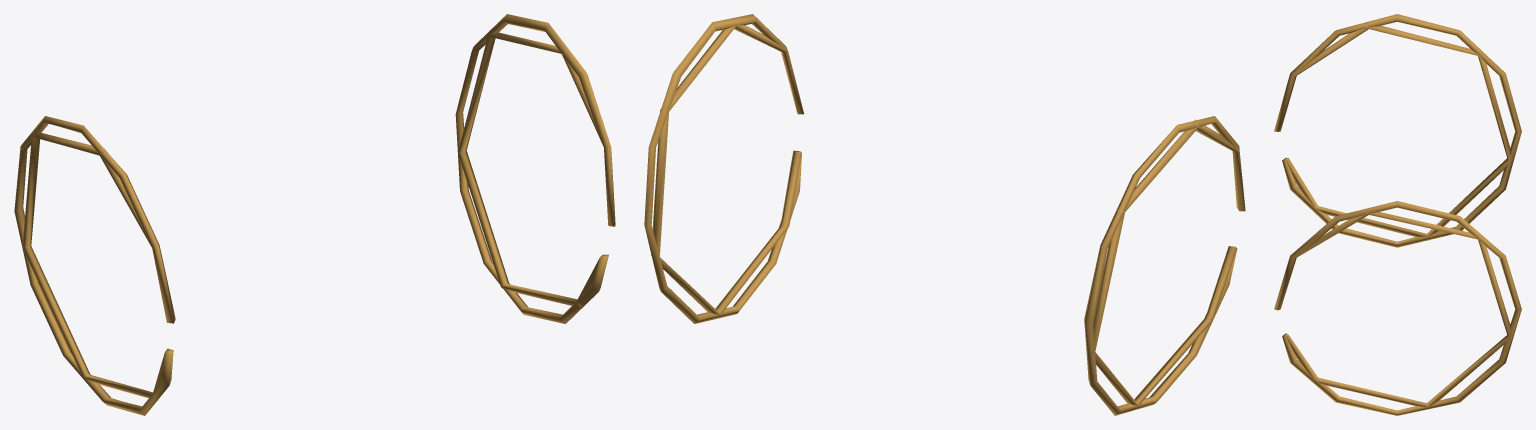
File: accs_002_u.obj
3 views of the same model, side by side, from view 1: azimuth 30°, elevation 25°; view 2: azimuth 150°, elevation 25°; view 3: azimuth 270°, elevation 25° (orthographic). The views are drawn at different scales.
Visible parts, largest first — view 1: accs_002_u_high_1, accs_002_u_med_1; view 2: accs_002_u_high_1, accs_002_u_med_1; view 3: accs_002_u_high_1, accs_002_u_med_1.
Boxes of the visible parts, x1=… form: accs_002_u_high_1: x1=14, y1=14, x2=615, y2=415; accs_002_u_med_1: x1=22, y1=30, x2=602, y2=397; accs_002_u_high_1: x1=644, y1=14, x2=1245, y2=415; accs_002_u_med_1: x1=651, y1=25, x2=1239, y2=405; accs_002_u_high_1: x1=1274, y1=14, x2=1521, y2=415; accs_002_u_med_1: x1=1286, y1=22, x2=1511, y2=406.
Bounding box in the file's own units: 0.1558 × 0.0938 × 0.0903.
